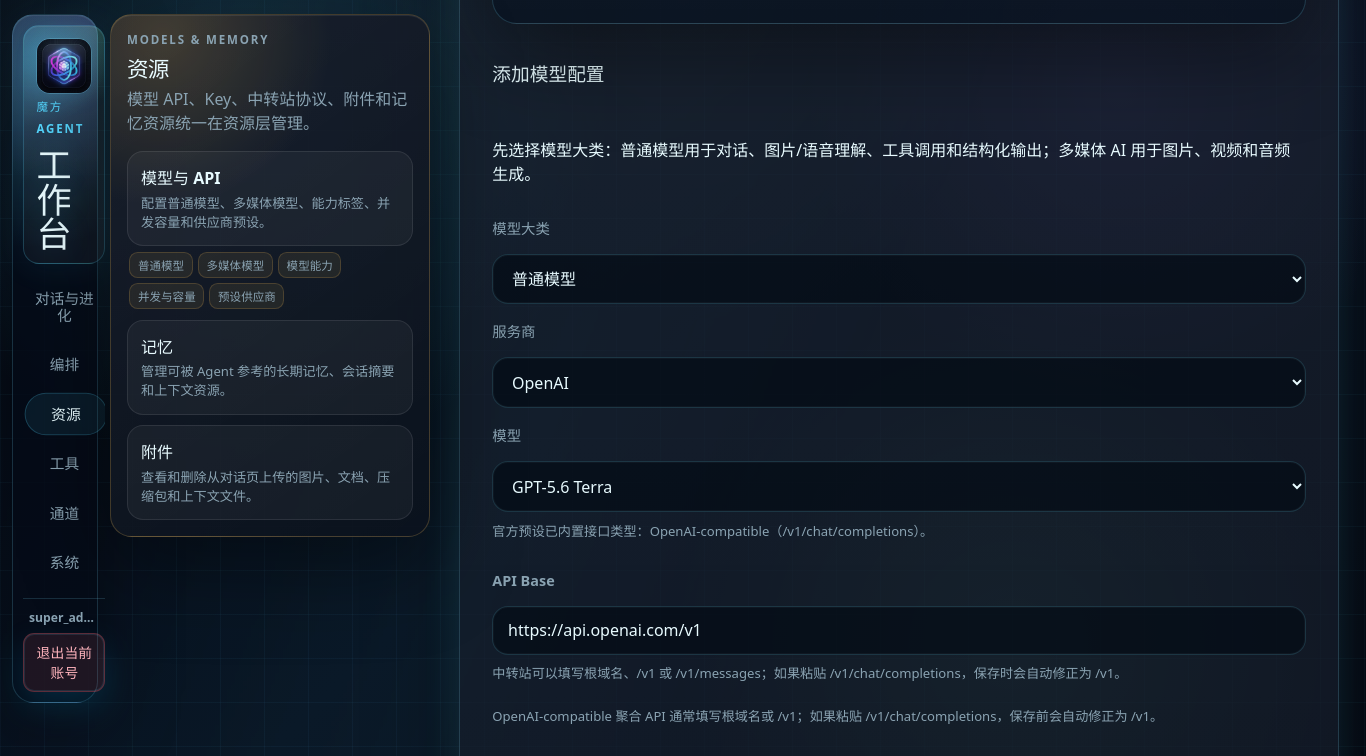
it: ModelsPage › includes Anthropic and Claude Code presets with provider-scoped models
(page scrolled)
Expected: the heading "添加模型配置" is shown, left=492, top=61, right=604, bottom=86
Select "Anthropic" in the dropdown labelled "服务商". click: (899, 383)
box: left=492, top=358, right=1306, bottom=408
(page scrolled)
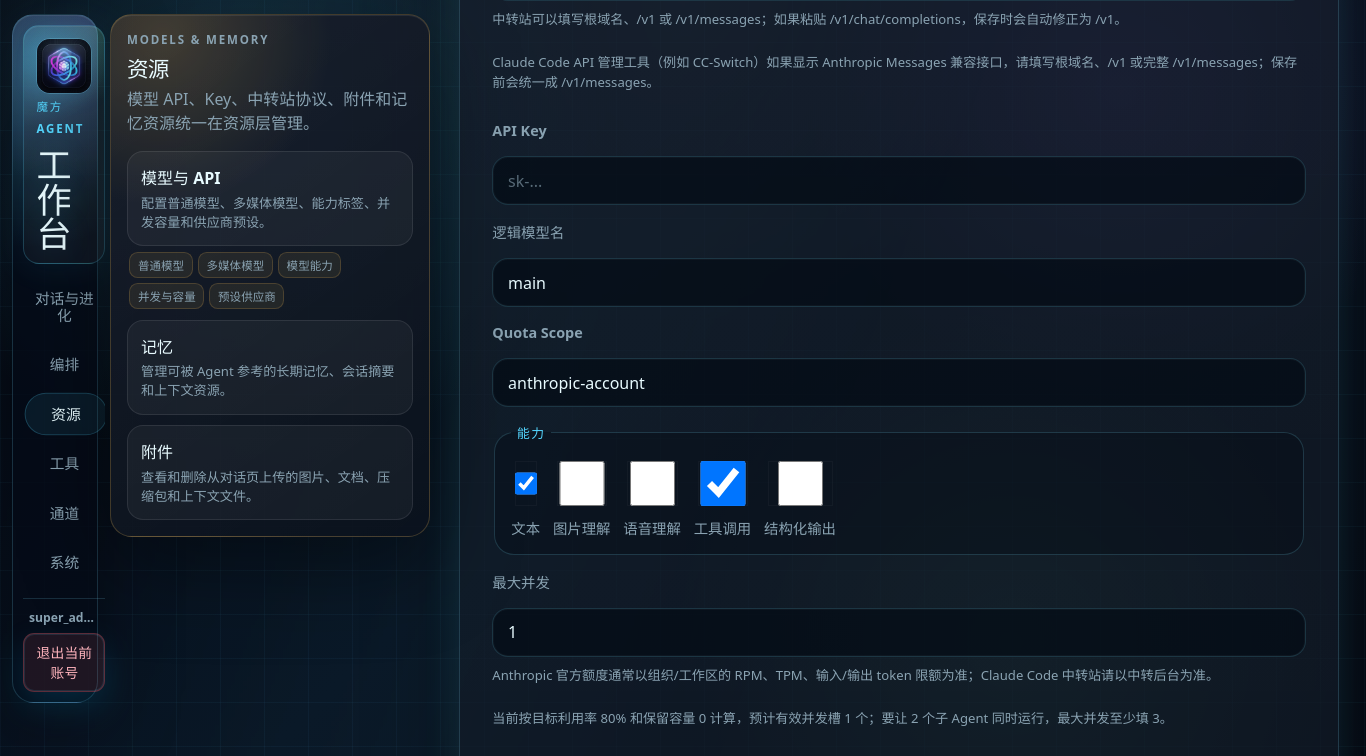
Expected: the field labelled "Quota Scope" holds "anthropic-account", left=492, top=358, right=1306, bottom=407
